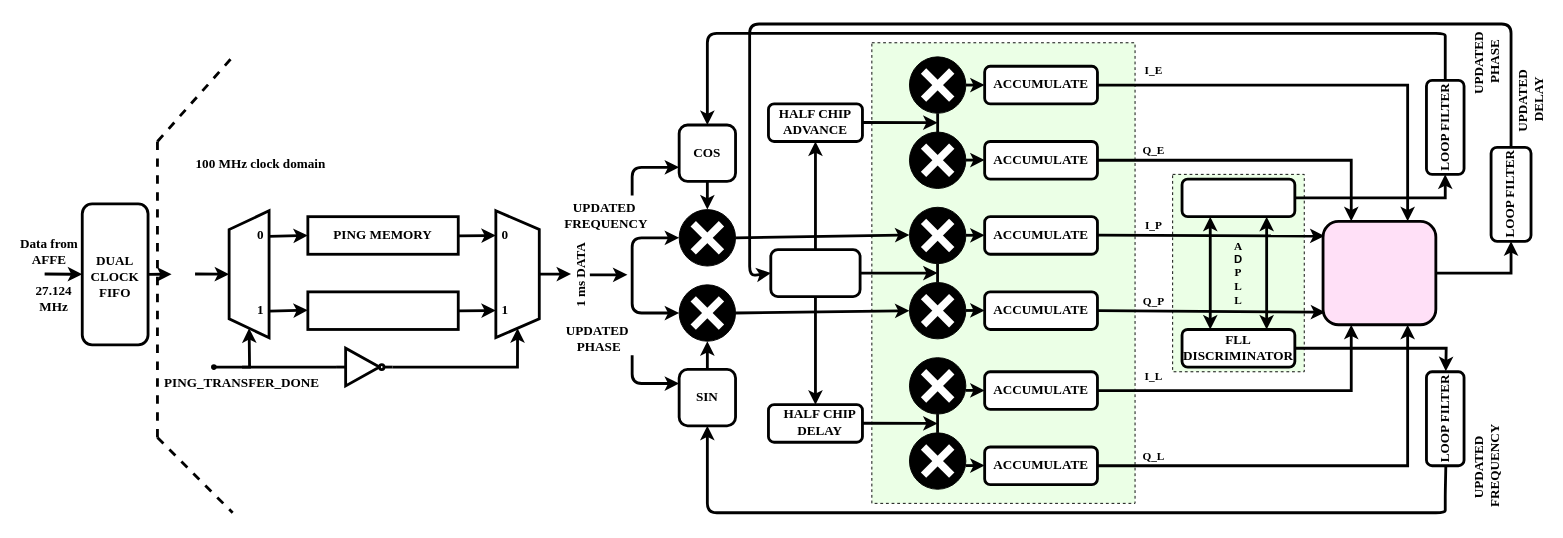
The diagram is 1563 pixels wide and 538 high, and some of its shapes have lost their labels. Here are the shapes that lost their labels. From the top down, the centre of each, then its label:
the point at 1238,197: PLL DISCRIMINATOR
the point at 248,274: INPUT DATA STREAM
the point at 815,273: CA CODE GENERATOR
the point at 1379,272: DLL DISCRIMINATOR
the point at 382,310: PONG MEMORY
